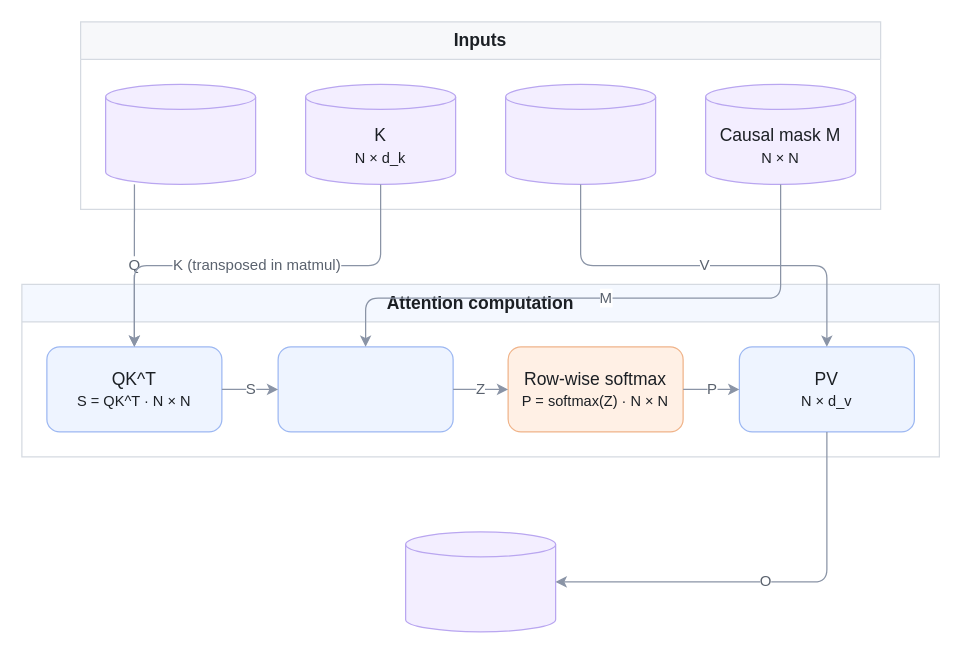
The diagram is 961 pixels wide and 654 high, and some of its shapes have lost their labels. Each missing label, with the centre of its shape:
O N × d_v: the point at 480,581
Q N × d_k: the point at 180,133
Scale + mask Z = S / sqrt(d_k) + M · N × N: the point at 365,389
V N × d_v: the point at 580,133
